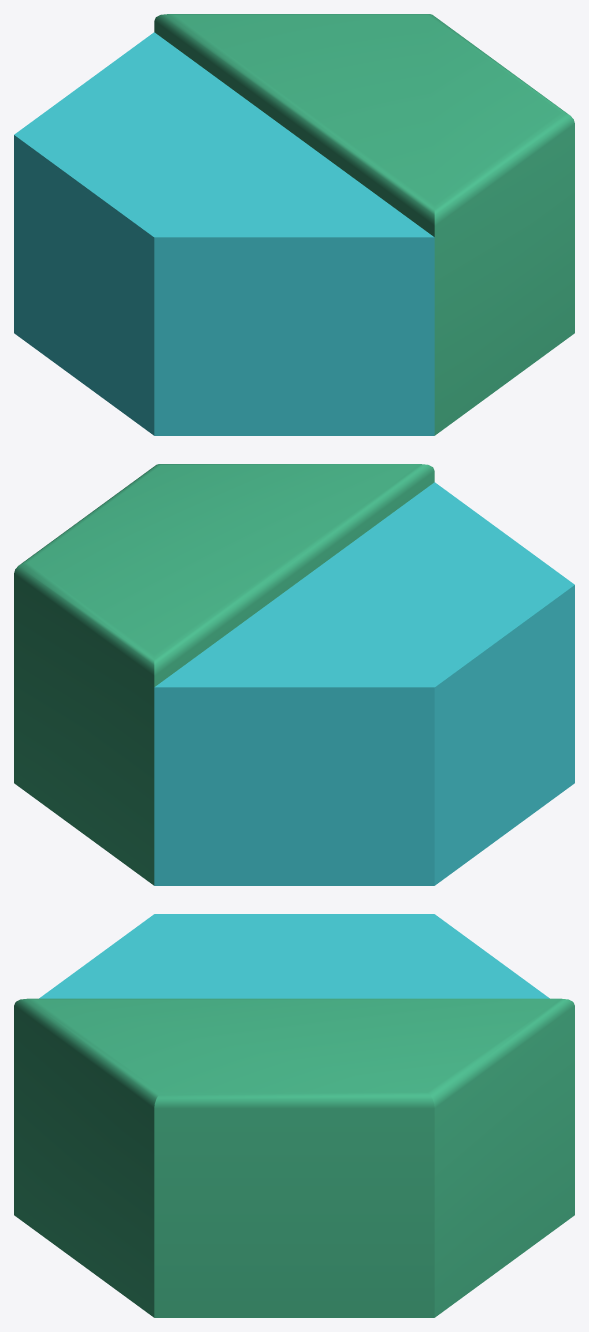
The model's file is hex_forest_waterB.glb.
The picture shows the model from 3 angles, top to bottom: view 1: azimuth 30°, elevation 25°; view 2: azimuth 150°, elevation 25°; view 3: azimuth 270°, elevation 25°; orthographic projection.
Visible parts, largest first — view 1: hex_forest_waterB; view 2: hex_forest_waterB; view 3: hex_forest_waterB.
Boxes of the visible parts, x1,y1,x2,y2 form: hex_forest_waterB: (14, 14, 574, 435); hex_forest_waterB: (14, 464, 574, 885); hex_forest_waterB: (14, 914, 574, 1317).
Bounding box in the file's own units: 2 × 1 × 2.31.
